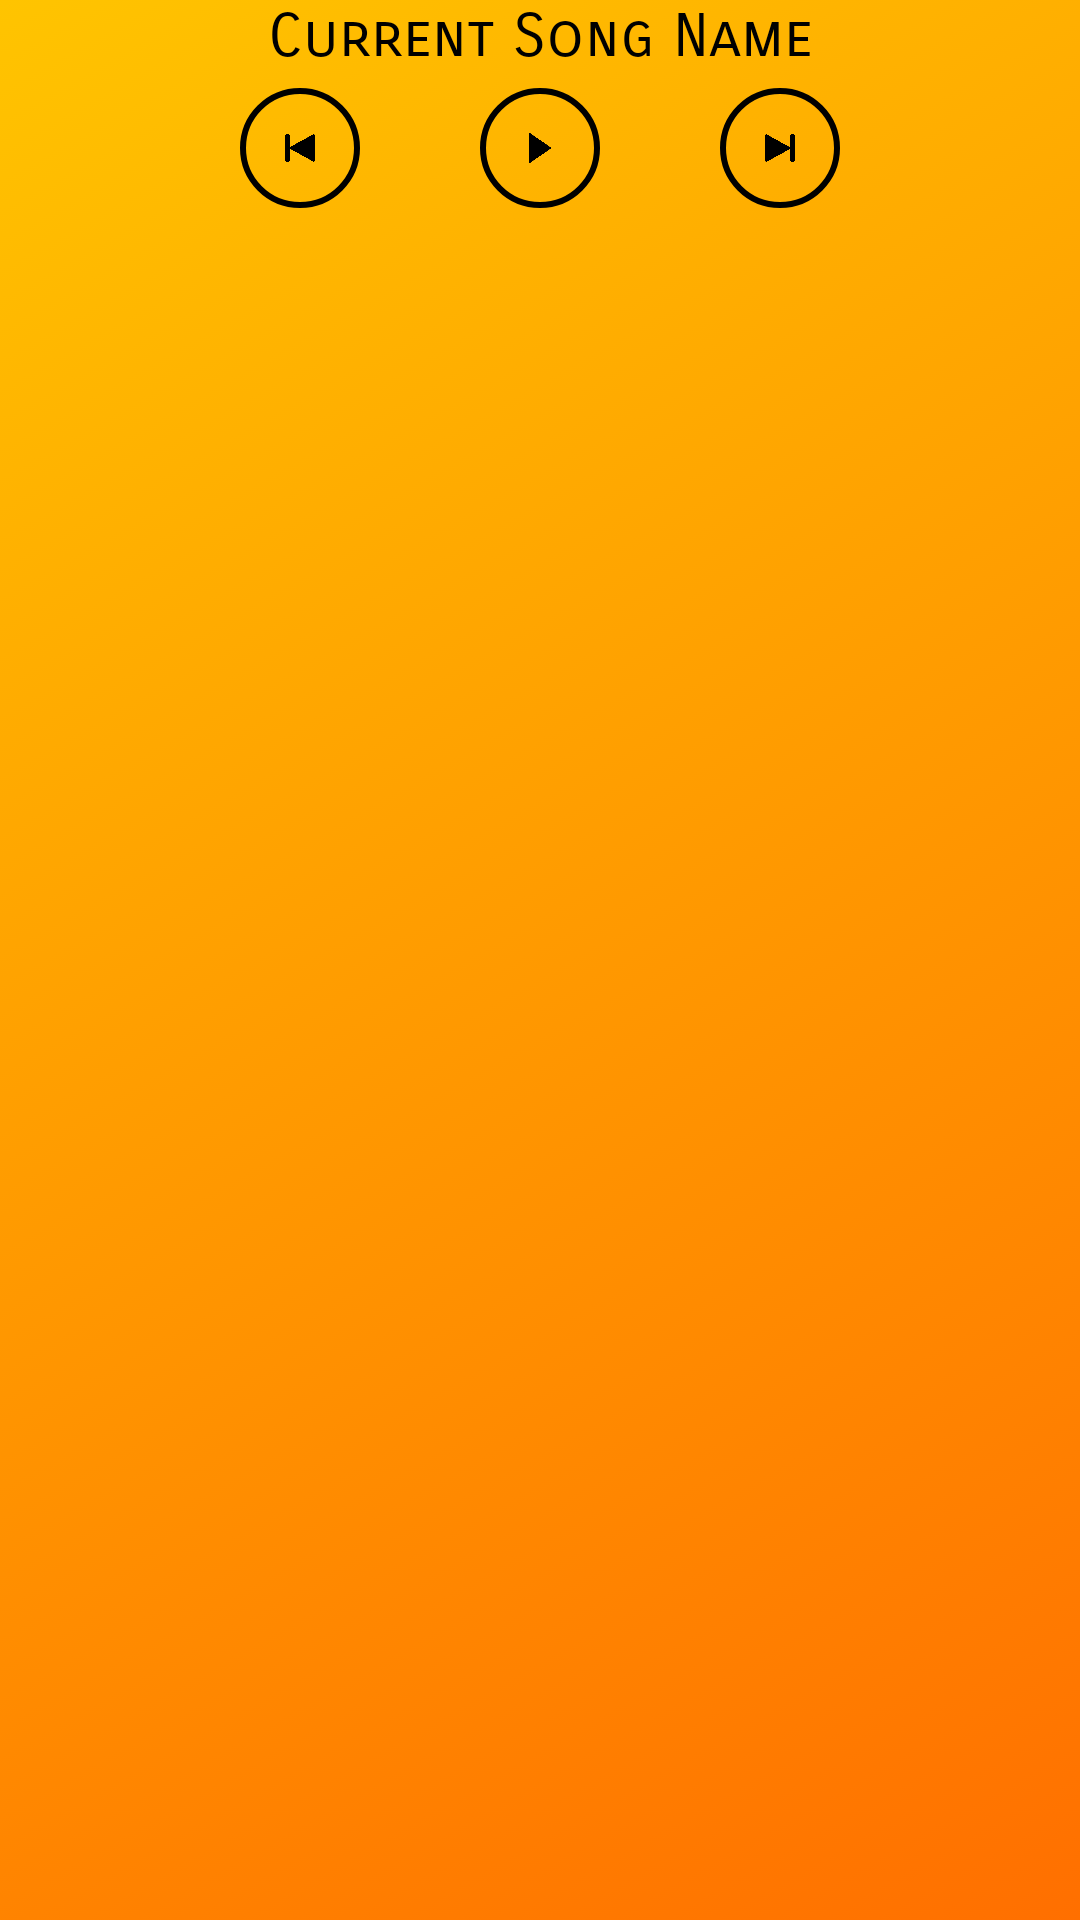

Locate icon controls on the screen. Image size 1080x1920, boxes as bbox=(x1, y1, x2, y2).
next track: bbox=(720, 88, 840, 208)
play: bbox=(480, 88, 600, 208)
previous track: bbox=(240, 88, 360, 208)
